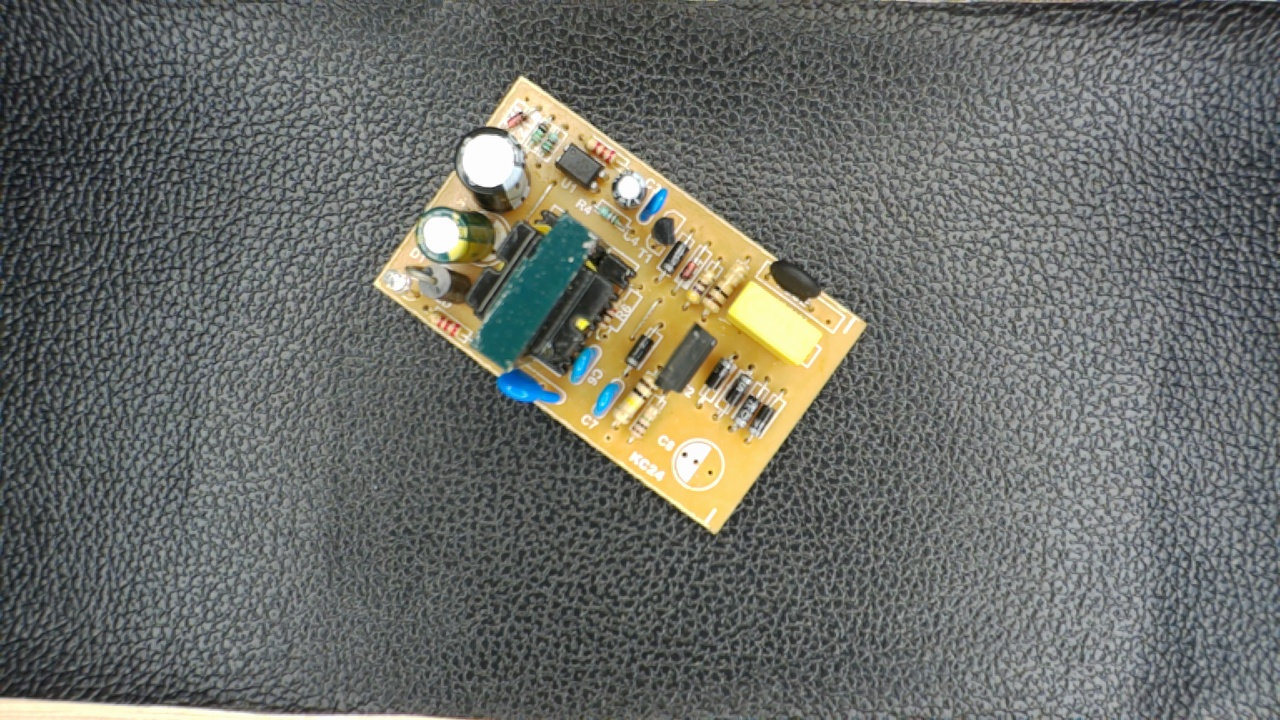fuse: (761, 254, 830, 308)
mov: (489, 360, 569, 414)
optocoupler: (545, 138, 611, 194)
